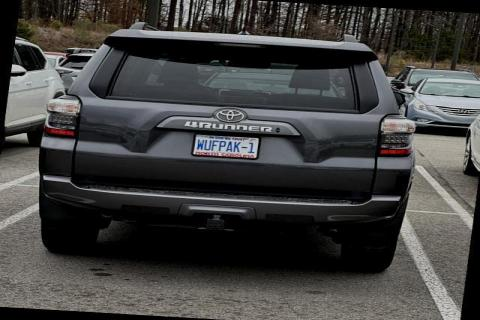LicensePlate: (189, 132, 261, 159)
